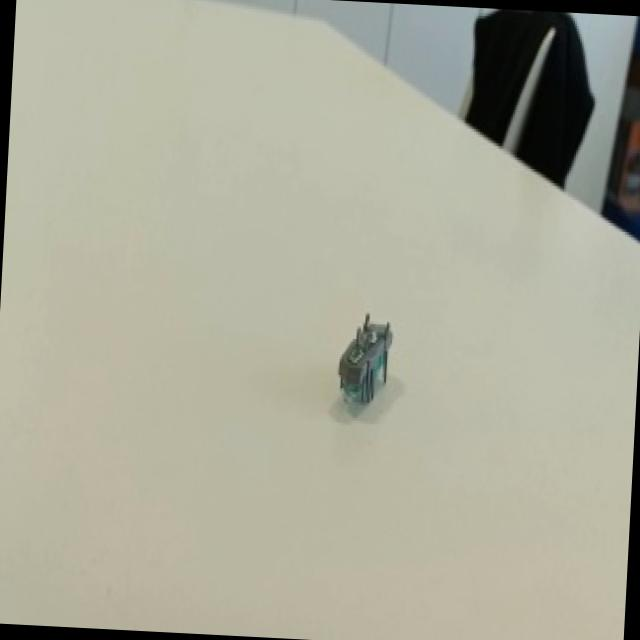5_NanoBug_GrisClaro: (310, 304, 400, 424)
